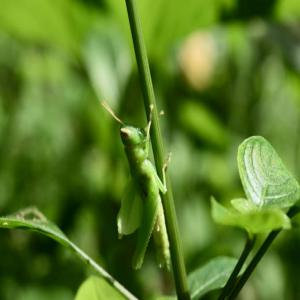locust: (94, 78, 204, 276)
